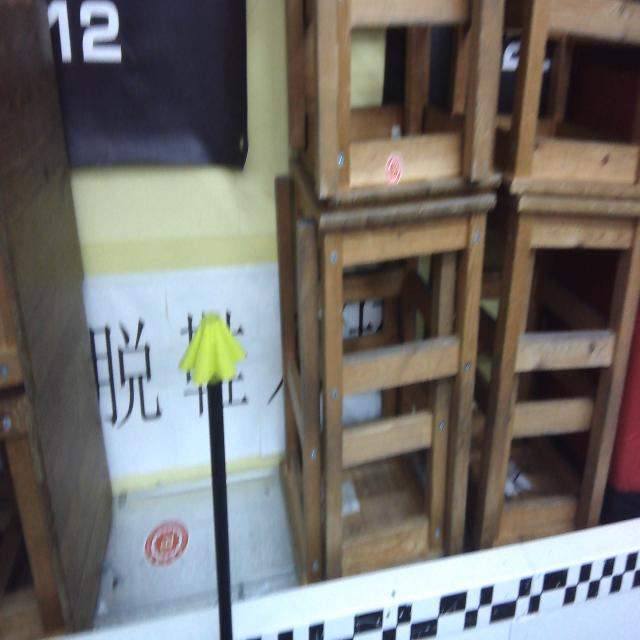Yellow-Stake-Head: (179, 314, 246, 384)
